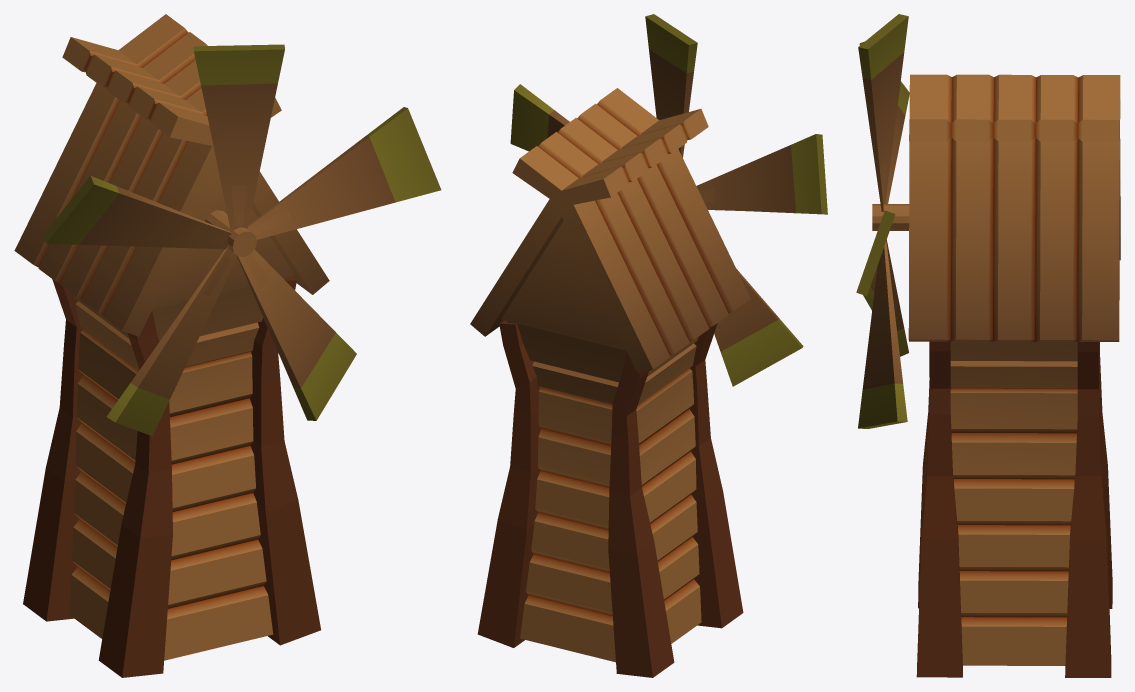
File: Мельница.fbx
3 views of the same model, side by side, from view 1: azimuth 30°, elevation 25°; view 2: azimuth 150°, elevation 25°; view 3: azimuth 270°, elevation 25° (orthographic). The views are drawn at different scales.
Visible parts, largest first — view 1: Cube, Cylinder.002; view 2: Cube, Cylinder.002; view 3: Cube, Cylinder.002.
Part boxes in pixels (bbox=[...]): Cube: bbox=[14, 14, 329, 677]; Cylinder.002: bbox=[43, 44, 441, 436]; Cube: bbox=[470, 88, 750, 677]; Cylinder.002: bbox=[510, 14, 827, 386]; Cube: bbox=[908, 74, 1120, 677]; Cylinder.002: bbox=[856, 14, 909, 428].
Bounding box in the file's own units: 788 × 1257 × 499.
